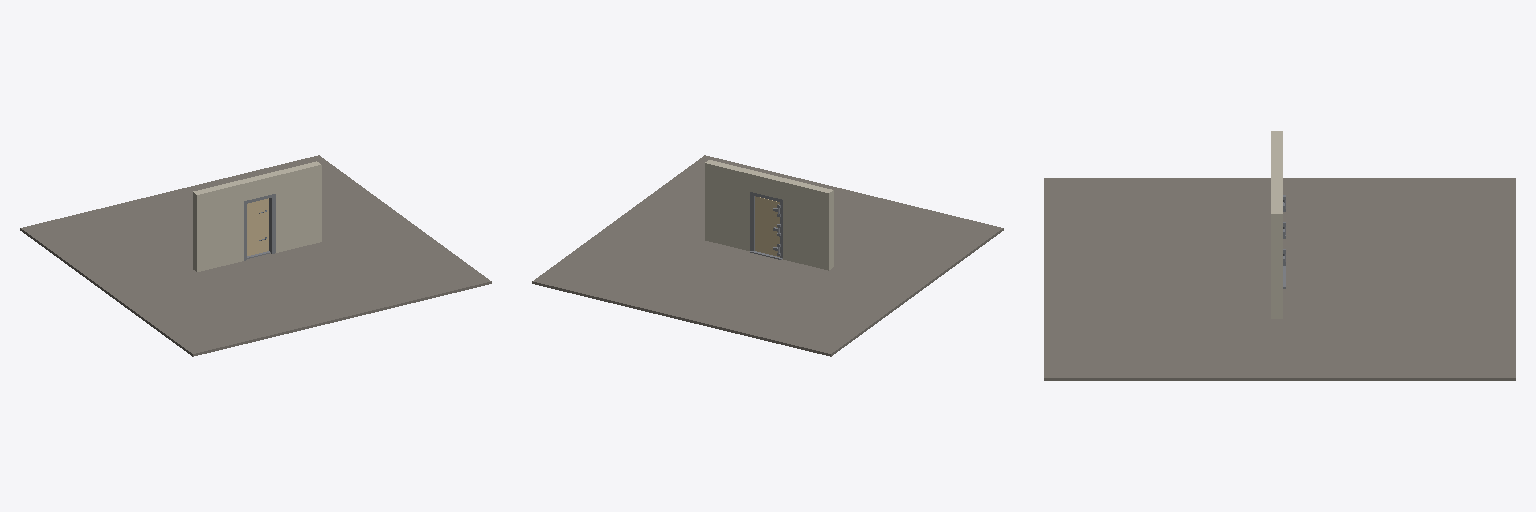
The robot description file, URDF, robot "db0623_blast_simple":
<?xml version="1.0" ?>
<robot xmlns:doorbench="https://github.com/adamraudonis/DoorBench/schema/urdf-ext" name="db0623_blast_simple">
  <link name="world_env">
    <visual name="floor_vis">
      <origin xyz="0 0 -0.05" rpy="0 0 0"/>
      <geometry>
        <box size="12 12 0.1"/>
      </geometry>
      <material name="mat_floor"/>
    </visual>
    <collision name="floor_col">
      <origin xyz="0 0 -0.05" rpy="0 0 0"/>
      <geometry>
        <box size="12 12 0.1"/>
      </geometry>
    </collision>
    <visual name="wall_left_vis">
      <origin xyz="-1.5665 -0.08 1.485" rpy="0 0 0"/>
      <geometry>
        <box size="1.867 0.32 2.97"/>
      </geometry>
      <material name="mat_wall"/>
    </visual>
    <collision name="wall_left_col">
      <origin xyz="-1.5665 -0.08 1.485" rpy="0 0 0"/>
      <geometry>
        <box size="1.867 0.32 2.97"/>
      </geometry>
    </collision>
    <visual name="wall_right_vis">
      <origin xyz="1.5815 -0.08 1.485" rpy="0 0 0"/>
      <geometry>
        <box size="1.837 0.32 2.97"/>
      </geometry>
      <material name="mat_wall"/>
    </visual>
    <collision name="wall_right_col">
      <origin xyz="1.5815 -0.08 1.485" rpy="0 0 0"/>
      <geometry>
        <box size="1.837 0.32 2.97"/>
      </geometry>
    </collision>
    <visual name="wall_header_vis">
      <origin xyz="0.015 -0.08 2.645" rpy="0 0 0"/>
      <geometry>
        <box size="1.296 0.32 0.65"/>
      </geometry>
      <material name="mat_wall"/>
    </visual>
    <collision name="wall_header_col">
      <origin xyz="0.015 -0.08 2.645" rpy="0 0 0"/>
      <geometry>
        <box size="1.296 0.32 0.65"/>
      </geometry>
    </collision>
    <visual name="jamb_hinge_vis">
      <origin xyz="-0.573 -0.08 1.085" rpy="0 0 0"/>
      <geometry>
        <box size="0.12 0.32 2.17"/>
      </geometry>
      <material name="mat_frame"/>
    </visual>
    <collision name="jamb_hinge_col">
      <origin xyz="-0.573 -0.08 1.085" rpy="0 0 0"/>
      <geometry>
        <box size="0.12 0.32 2.17"/>
      </geometry>
    </collision>
    <visual name="strike_575_wall_n_vis">
      <origin xyz="0.588 -0.129 0.575" rpy="0 0 0"/>
      <geometry>
        <box size="0.15 0.222 0.042"/>
      </geometry>
      <material name="mat_frame"/>
    </visual>
    <collision name="strike_575_wall_n_col">
      <origin xyz="0.588 -0.129 0.575" rpy="0 0 0"/>
      <geometry>
        <box size="0.15 0.222 0.042"/>
      </geometry>
    </collision>
    <visual name="strike_575_wall_p_vis">
      <origin xyz="0.588 0.049 0.575" rpy="0 0 0"/>
      <geometry>
        <box size="0.15 0.062 0.042"/>
      </geometry>
      <material name="mat_frame"/>
    </visual>
    <collision name="strike_575_wall_p_col">
      <origin xyz="0.588 0.049 0.575" rpy="0 0 0"/>
      <geometry>
        <box size="0.15 0.062 0.042"/>
      </geometry>
    </collision>
    <visual name="strike_575_back_vis">
      <origin xyz="0.624 0 0.575" rpy="0 0 0"/>
      <geometry>
        <box size="0.078 0.036 0.042"/>
      </geometry>
      <material name="mat_frame"/>
    </visual>
    <collision name="strike_575_back_col">
      <origin xyz="0.624 0 0.575" rpy="0 0 0"/>
      <geometry>
        <box size="0.078 0.036 0.042"/>
      </geometry>
    </collision>
    <visual name="strike_1625_wall_n_vis">
      <origin xyz="0.588 -0.129 1.625" rpy="0 0 0"/>
      <geometry>
        <box size="0.15 0.222 0.042"/>
      </geometry>
      <material name="mat_frame"/>
    </visual>
    <collision name="strike_1625_wall_n_col">
      <origin xyz="0.588 -0.129 1.625" rpy="0 0 0"/>
      <geometry>
        <box size="0.15 0.222 0.042"/>
      </geometry>
    </collision>
    <visual name="strike_1625_wall_p_vis">
      <origin xyz="0.588 0.049 1.625" rpy="0 0 0"/>
      <geometry>
        <box size="0.15 0.062 0.042"/>
      </geometry>
      <material name="mat_frame"/>
    </visual>
    <collision name="strike_1625_wall_p_col">
      <origin xyz="0.588 0.049 1.625" rpy="0 0 0"/>
      <geometry>
        <box size="0.15 0.062 0.042"/>
      </geometry>
    </collision>
    <visual name="strike_1625_back_vis">
      <origin xyz="0.624 0 1.625" rpy="0 0 0"/>
      <geometry>
        <box size="0.078 0.036 0.042"/>
      </geometry>
      <material name="mat_frame"/>
    </visual>
    <collision name="strike_1625_back_col">
      <origin xyz="0.624 0 1.625" rpy="0 0 0"/>
      <geometry>
        <box size="0.078 0.036 0.042"/>
      </geometry>
    </collision>
    <visual name="jamb_strike_0_vis">
      <origin xyz="0.588 -0.08 0.277" rpy="0 0 0"/>
      <geometry>
        <box size="0.15 0.32 0.554"/>
      </geometry>
      <material name="mat_frame"/>
    </visual>
    <collision name="jamb_strike_0_col">
      <origin xyz="0.588 -0.08 0.277" rpy="0 0 0"/>
      <geometry>
        <box size="0.15 0.32 0.554"/>
      </geometry>
    </collision>
    <visual name="jamb_strike_1_vis">
      <origin xyz="0.588 -0.08 1.1" rpy="0 0 0"/>
      <geometry>
        <box size="0.15 0.32 1.008"/>
      </geometry>
      <material name="mat_frame"/>
    </visual>
    <collision name="jamb_strike_1_col">
      <origin xyz="0.588 -0.08 1.1" rpy="0 0 0"/>
      <geometry>
        <box size="0.15 0.32 1.008"/>
      </geometry>
    </collision>
    <visual name="jamb_strike_2_vis">
      <origin xyz="0.588 -0.08 1.908" rpy="0 0 0"/>
      <geometry>
        <box size="0.15 0.32 0.524"/>
      </geometry>
      <material name="mat_frame"/>
    </visual>
    <collision name="jamb_strike_2_col">
      <origin xyz="0.588 -0.08 1.908" rpy="0 0 0"/>
      <geometry>
        <box size="0.15 0.32 0.524"/>
      </geometry>
    </collision>
    <visual name="jamb_head_vis">
      <origin xyz="0.015 -0.08 2.23" rpy="0 0 0"/>
      <geometry>
        <box size="1.296 0.32 0.12"/>
      </geometry>
      <material name="mat_frame"/>
    </visual>
    <collision name="jamb_head_col">
      <origin xyz="0.015 -0.08 2.23" rpy="0 0 0"/>
      <geometry>
        <box size="1.296 0.32 0.12"/>
      </geometry>
    </collision>
    <visual name="head_stud_vis">
      <origin xyz="0.015 -0.08 2.305" rpy="0 0 0"/>
      <geometry>
        <box size="1.296 0.32 0.03"/>
      </geometry>
      <material name="mat_wall"/>
    </visual>
    <collision name="head_stud_col">
      <origin xyz="0.015 -0.08 2.305" rpy="0 0 0"/>
      <geometry>
        <box size="1.296 0.32 0.03"/>
      </geometry>
    </collision>
    <visual name="stop_hinge_vis">
      <origin xyz="-0.5075 -0.0765 1.085" rpy="0 0 0"/>
      <geometry>
        <box size="0.011 0.032 2.17"/>
      </geometry>
      <material name="mat_frame"/>
    </visual>
    <collision name="stop_hinge_col">
      <origin xyz="-0.5075 -0.0765 1.085" rpy="0 0 0"/>
      <geometry>
        <box size="0.011 0.032 2.17"/>
      </geometry>
    </collision>
    <visual name="stop_strike_vis">
      <origin xyz="0.5075 -0.0765 1.085" rpy="0 0 0"/>
      <geometry>
        <box size="0.011 0.032 2.17"/>
      </geometry>
      <material name="mat_frame"/>
    </visual>
    <collision name="stop_strike_col">
      <origin xyz="0.5075 -0.0765 1.085" rpy="0 0 0"/>
      <geometry>
        <box size="0.011 0.032 2.17"/>
      </geometry>
    </collision>
    <visual name="stop_head_vis">
      <origin xyz="0 -0.0765 2.1645" rpy="0 0 0"/>
      <geometry>
        <box size="1.026 0.032 0.011"/>
      </geometry>
      <material name="mat_frame"/>
    </visual>
    <collision name="stop_head_col">
      <origin xyz="0 -0.0765 2.1645" rpy="0 0 0"/>
      <geometry>
        <box size="1.026 0.032 0.011"/>
      </geometry>
    </collision>
    <visual name="sill_step_vis">
      <origin xyz="0 0 0.02" rpy="0 0 0"/>
      <geometry>
        <box size="1.266 0.32 0.04"/>
      </geometry>
      <material name="mat_frame"/>
    </visual>
    <collision name="sill_step_col">
      <origin xyz="0 0 0.02" rpy="0 0 0"/>
      <geometry>
        <box size="1.266 0.32 0.04"/>
      </geometry>
    </collision>
    <visual name="hinge_0_bracket_b_vis">
      <origin xyz="-0.507 0.1125 0.18" rpy="0 0 0"/>
      <geometry>
        <box size="0.1 0.065 0.1"/>
      </geometry>
      <material name="mat_hinge"/>
    </visual>
    <visual name="hinge_0_bracket_t_vis">
      <origin xyz="-0.507 0.1125 0.52" rpy="0 0 0"/>
      <geometry>
        <box size="0.1 0.065 0.1"/>
      </geometry>
      <material name="mat_hinge"/>
    </visual>
    <visual name="hinge_1_bracket_b_vis">
      <origin xyz="-0.507 0.1125 0.93" rpy="0 0 0"/>
      <geometry>
        <box size="0.1 0.065 0.1"/>
      </geometry>
      <material name="mat_hinge"/>
    </visual>
    <visual name="hinge_1_bracket_t_vis">
      <origin xyz="-0.507 0.1125 1.27" rpy="0 0 0"/>
      <geometry>
        <box size="0.1 0.065 0.1"/>
      </geometry>
      <material name="mat_hinge"/>
    </visual>
    <visual name="hinge_2_bracket_b_vis">
      <origin xyz="-0.507 0.1125 1.68" rpy="0 0 0"/>
      <geometry>
        <box size="0.1 0.065 0.1"/>
      </geometry>
      <material name="mat_hinge"/>
    </visual>
    <visual name="hinge_2_bracket_t_vis">
      <origin xyz="-0.507 0.1125 2.02" rpy="0 0 0"/>
      <geometry>
        <box size="0.1 0.065 0.1"/>
      </geometry>
      <material name="mat_hinge"/>
    </visual>
  </link>
  <link name="leaf">
    <inertial>
      <origin xyz="0.471364 -0.117743 1.1" rpy="0 0 0"/>
      <mass value="1025.680363"/>
      <inertia ixx="379.567817931" ixy="3.067480381" ixz="0" iyy="469.750451799" iyz="0" izz="94.099185318"/>
    </inertial>
    <visual name="leaf_slab_vis">
      <origin xyz="0.5 -0.125 1.1" rpy="0 0 0"/>
      <geometry>
        <box size="1 0.12 2.1"/>
      </geometry>
      <material name="mat_leaf"/>
    </visual>
    <collision name="leaf_slab_col">
      <origin xyz="0.5 -0.125 1.1" rpy="0 0 0"/>
      <geometry>
        <box size="1 0.12 2.1"/>
      </geometry>
    </collision>
    <visual name="hinge_0_vis">
      <origin xyz="0 0 0.35" rpy="0 0 0"/>
      <geometry>
        <cylinder radius="0.04" length="0.24"/>
      </geometry>
      <material name="mat_hinge"/>
    </visual>
    <visual name="hinge_0_arm_vis">
      <origin xyz="0.11 -0.025 0.35" rpy="0 0 0"/>
      <geometry>
        <box size="0.22 0.08 0.1"/>
      </geometry>
      <material name="mat_hinge"/>
    </visual>
    <visual name="hinge_1_vis">
      <origin xyz="0 0 1.1" rpy="0 0 0"/>
      <geometry>
        <cylinder radius="0.04" length="0.24"/>
      </geometry>
      <material name="mat_hinge"/>
    </visual>
    <visual name="hinge_1_arm_vis">
      <origin xyz="0.11 -0.025 1.1" rpy="0 0 0"/>
      <geometry>
        <box size="0.22 0.08 0.1"/>
      </geometry>
      <material name="mat_hinge"/>
    </visual>
    <visual name="hinge_2_vis">
      <origin xyz="0 0 1.85" rpy="0 0 0"/>
      <geometry>
        <cylinder radius="0.04" length="0.24"/>
      </geometry>
      <material name="mat_hinge"/>
    </visual>
    <visual name="hinge_2_arm_vis">
      <origin xyz="0.11 -0.025 1.85" rpy="0 0 0"/>
      <geometry>
        <box size="0.22 0.08 0.1"/>
      </geometry>
      <material name="mat_hinge"/>
    </visual>
  </link>
  <link name="dog_0">
    <inertial>
      <origin xyz="-0.138181 -0.112433 0" rpy="0 0 0"/>
      <mass value="4.666646"/>
      <inertia ixx="0.002110864" ixy="-0.004879484" ixz="0" iyy="0.056543359" iyz="0" izz="0.05779918"/>
    </inertial>
    <visual name="dog_0_lever_vis">
      <origin xyz="0 -0.06 0" rpy="1.570796 0 0"/>
      <geometry>
        <mesh filename="../../hardware/lever_c7a1f2892f.obj"/>
      </geometry>
      <material name="mat_op_steel_painted"/>
    </visual>
    <collision name="dog_0_lever_col_col">
      <origin xyz="-0.15 -0.12 0" rpy="0 1.570796 0"/>
      <geometry>
        <cylinder radius="0.015" length="0.28"/>
      </geometry>
    </collision>
  </link>
  <link name="bolt_0">
    <inertial>
      <origin xyz="-0.017 0 0" rpy="0 0 0"/>
      <mass value="0.980673"/>
      <inertia ixx="0.000122078" ixy="0" ixz="0" iyy="0.002046701" iyz="0" izz="0.002046701"/>
    </inertial>
    <visual name="bolt_0_geom_vis">
      <origin xyz="-0.017 0 0" rpy="0 1.570796 0"/>
      <geometry>
        <cylinder radius="0.016" length="0.134"/>
      </geometry>
      <material name="mat_vault_bolt"/>
    </visual>
    <collision name="bolt_0_geom_col">
      <origin xyz="-0.017 0 0" rpy="0 1.570796 0"/>
      <geometry>
        <cylinder radius="0.016" length="0.134"/>
      </geometry>
    </collision>
  </link>
  <link name="dog_1">
    <inertial>
      <origin xyz="-0.138181 -0.112433 0" rpy="0 0 0"/>
      <mass value="4.666646"/>
      <inertia ixx="0.002110864" ixy="-0.004879484" ixz="0" iyy="0.056543359" iyz="0" izz="0.05779918"/>
    </inertial>
    <visual name="dog_1_lever_vis">
      <origin xyz="0 -0.06 0" rpy="1.570796 0 0"/>
      <geometry>
        <mesh filename="../../hardware/lever_c7a1f2892f.obj"/>
      </geometry>
      <material name="mat_op_steel_painted"/>
    </visual>
    <collision name="dog_1_lever_col_col">
      <origin xyz="-0.15 -0.12 0" rpy="0 1.570796 0"/>
      <geometry>
        <cylinder radius="0.015" length="0.28"/>
      </geometry>
    </collision>
  </link>
  <link name="bolt_1">
    <inertial>
      <origin xyz="-0.017 0 0" rpy="0 0 0"/>
      <mass value="0.980673"/>
      <inertia ixx="0.000122078" ixy="0" ixz="0" iyy="0.002046701" iyz="0" izz="0.002046701"/>
    </inertial>
    <visual name="bolt_1_geom_vis">
      <origin xyz="-0.017 0 0" rpy="0 1.570796 0"/>
      <geometry>
        <cylinder radius="0.016" length="0.134"/>
      </geometry>
      <material name="mat_vault_bolt"/>
    </visual>
    <collision name="bolt_1_geom_col">
      <origin xyz="-0.017 0 0" rpy="0 1.570796 0"/>
      <geometry>
        <cylinder radius="0.016" length="0.134"/>
      </geometry>
    </collision>
  </link>
  <joint name="leaf_hinge" type="revolute">
    <origin xyz="-0.507 0.125 0" rpy="0 0 0"/>
    <parent link="world_env"/>
    <child link="leaf"/>
    <axis xyz="0 0 1"/>
    <limit lower="0" upper="1.745329" effort="2000" velocity="10"/>
    <dynamics damping="0.42926" friction="36.054617"/>
    <doorbench:closer damping_closing="0" damping_opening="0" backcheck_angle="0" backcheck_damping="0"/>
  </joint>
  <joint name="dog_0_hinge" type="revolute">
    <origin xyz="0.88 -0.125 0.575" rpy="0 0 0"/>
    <parent link="leaf"/>
    <child link="dog_0"/>
    <axis xyz="0 -1 0"/>
    <limit lower="0" upper="1.5708" effort="2000" velocity="10"/>
    <dynamics damping="1" friction="6"/>
  </joint>
  <joint name="bolt_0_slide" type="prismatic">
    <origin xyz="1 -0.125 0.575" rpy="0 0 0"/>
    <parent link="leaf"/>
    <child link="bolt_0"/>
    <axis xyz="-1 0 0"/>
    <limit lower="0" upper="0.066" effort="5000" velocity="10"/>
    <dynamics damping="20" friction="25"/>
    <mimic joint="dog_0_hinge" multiplier="0.042017" offset="0"/>
  </joint>
  <joint name="dog_1_hinge" type="revolute">
    <origin xyz="0.88 -0.125 1.625" rpy="0 0 0"/>
    <parent link="leaf"/>
    <child link="dog_1"/>
    <axis xyz="0 -1 0"/>
    <limit lower="0" upper="1.5708" effort="2000" velocity="10"/>
    <dynamics damping="1" friction="6"/>
  </joint>
  <joint name="bolt_1_slide" type="prismatic">
    <origin xyz="1 -0.125 1.625" rpy="0 0 0"/>
    <parent link="leaf"/>
    <child link="bolt_1"/>
    <axis xyz="-1 0 0"/>
    <limit lower="0" upper="0.066" effort="5000" velocity="10"/>
    <dynamics damping="20" friction="25"/>
    <mimic joint="dog_1_hinge" multiplier="0.042017" offset="0"/>
  </joint>
  <material name="mat_floor">
    <color rgba="0.55 0.53 0.5 1"/>
  </material>
  <material name="mat_frame">
    <color rgba="0.55 0.56 0.58 1"/>
  </material>
  <material name="mat_hinge">
    <color rgba="0.55 0.56 0.58 1"/>
  </material>
  <material name="mat_leaf">
    <color rgba="0.82 0.75 0.62 1"/>
  </material>
  <material name="mat_op_steel_painted">
    <color rgba="0.45 0.48 0.52 1"/>
  </material>
  <material name="mat_vault_bolt">
    <color rgba="0.75 0.76 0.77 1"/>
  </material>
  <material name="mat_wall">
    <color rgba="0.78 0.76 0.7 1"/>
  </material>
</robot>

--- Render facts (derived) ---
Views: 3 orthographic renders of the robot side by side, from view 1: azimuth 30°, elevation 25°; view 2: azimuth 150°, elevation 25°; view 3: azimuth 270°, elevation 25°.
Robot: db0623_blast_simple — 6 links, 5 joints (3 revolute, 2 prismatic); root link world_env; default pose: all joints at 0.
Links seen in each view (by area): view 1: world_env, leaf; view 2: world_env, leaf; view 3: world_env.
Link boxes in pixels (x1,y1,x2,y2): world_env: [20, 155, 491, 356]; leaf: [247, 198, 268, 255]; world_env: [532, 155, 1003, 356]; leaf: [755, 196, 779, 256]; world_env: [1044, 131, 1515, 380].
Size in the robot's own frame: 12 by 12 by 3.07 metres.
2 mesh visuals loaded from 1 distinct referenced files (1 OBJ).
